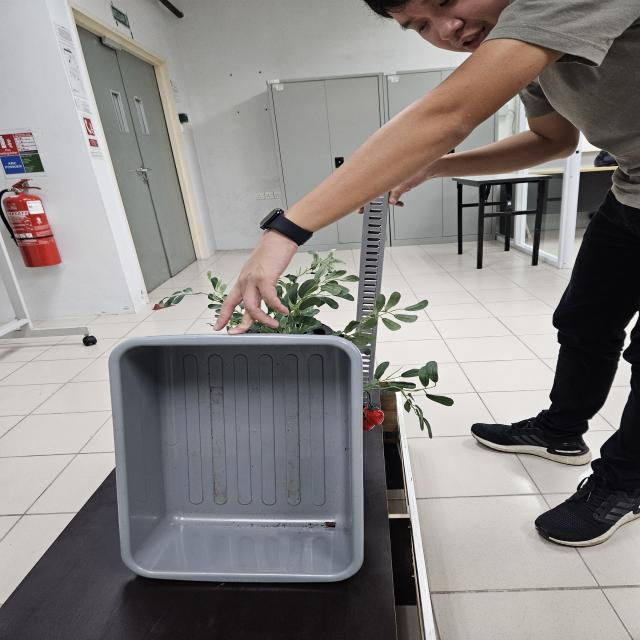Obstacle: (107, 334, 366, 587)
Tomato: (362, 407, 385, 432)
plant: (246, 251, 430, 361), (363, 362, 455, 439), (153, 276, 226, 311)
